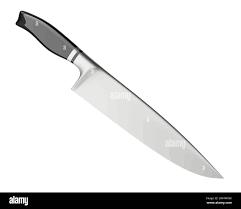Knife: (15, 9, 224, 179)
